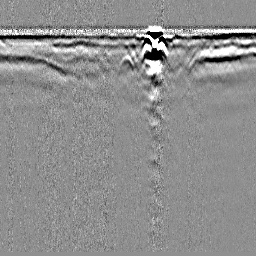cavity: (118, 52, 134, 71)
